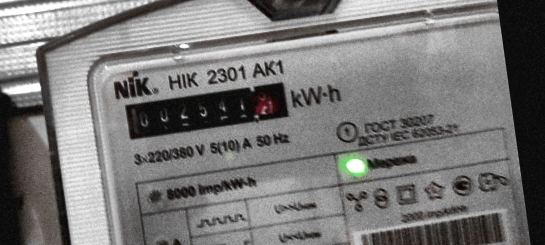0: (135, 106, 150, 129), (155, 101, 170, 124)
1: (233, 92, 247, 113)
2: (175, 100, 190, 121)
4: (214, 93, 229, 116)
5: (194, 96, 209, 119)
6: (257, 101, 270, 117)
screen: (113, 71, 300, 149)
